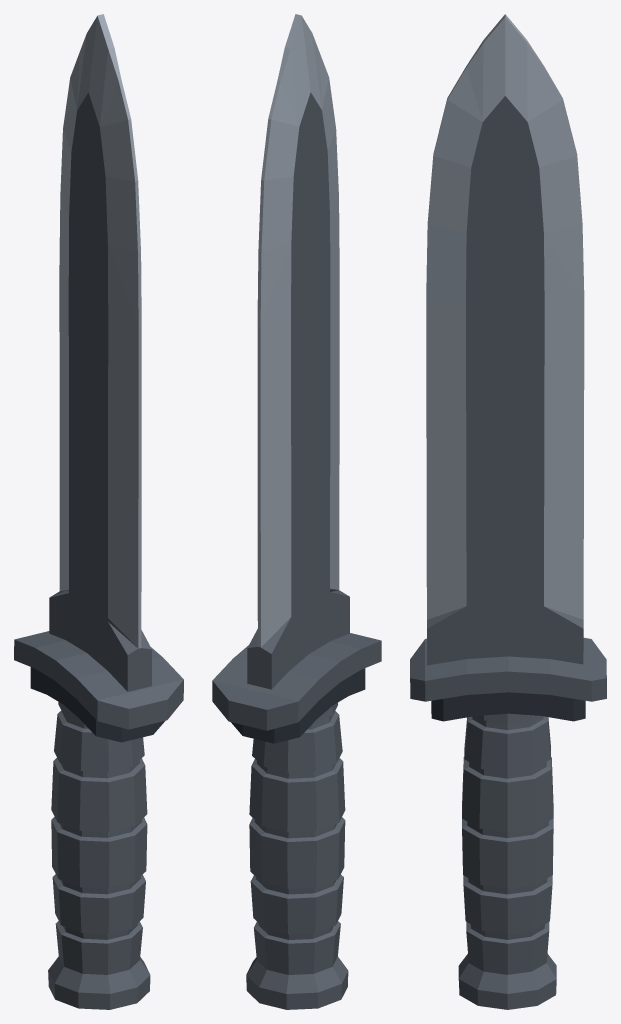
The model's file is knife.dae.
3 renders of one model, left to right at view 1: azimuth 30°, elevation 25°; view 2: azimuth 150°, elevation 25°; view 3: azimuth 270°, elevation 25°, orthographic.
Visible parts, largest first — view 1: knife; view 2: knife; view 3: knife.
Part boxes in pixels (x1,y1,x2,y2): knife: [14, 14, 183, 1009]; knife: [212, 14, 381, 1009]; knife: [410, 14, 606, 1009].
Size of the model in its own units: 0.0288 by 0.055 by 0.3.
